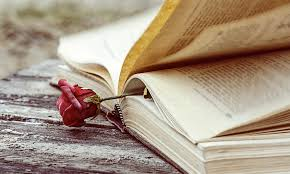Open Book: (56, 1, 290, 174)
